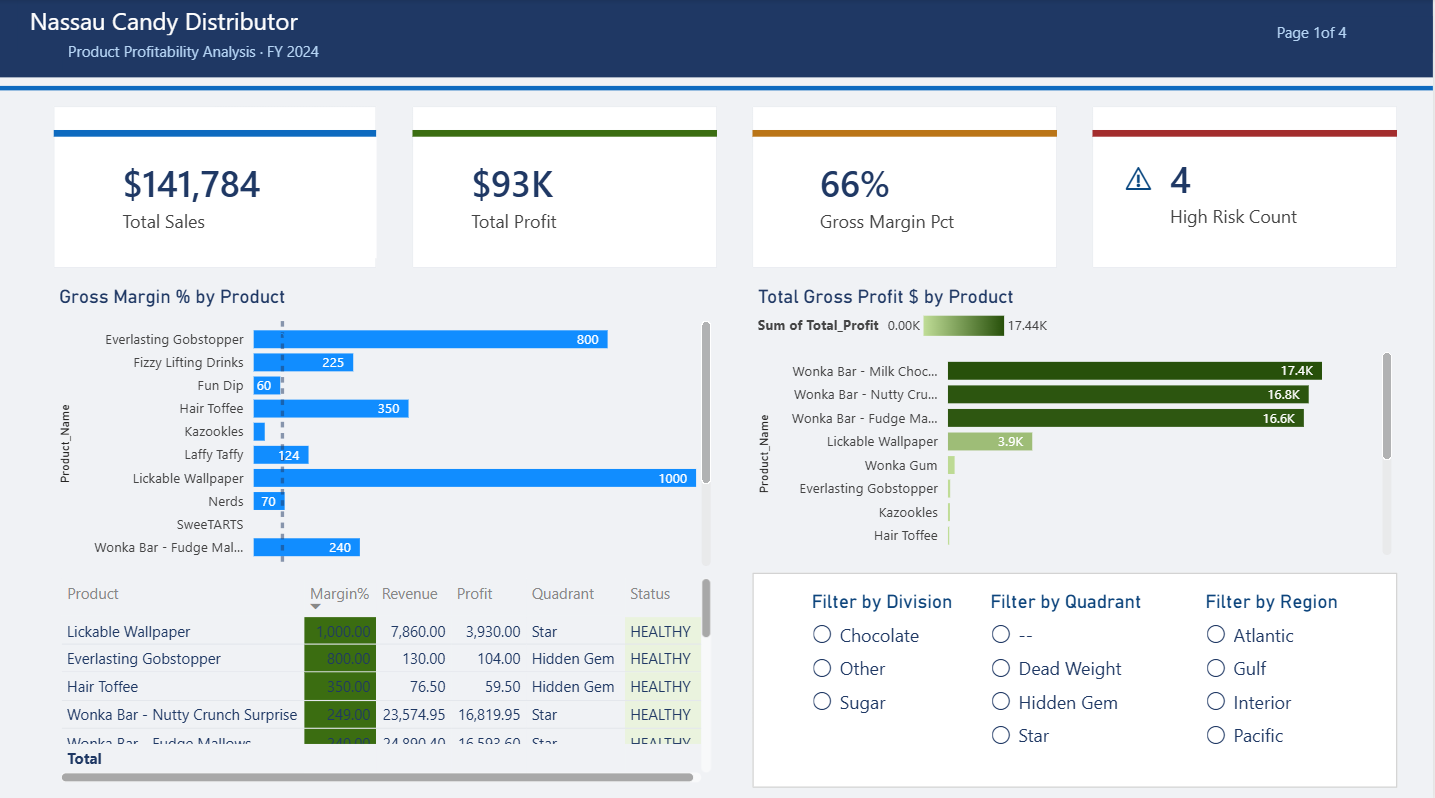

This screenshot's page, from the dashboard's own definition file:
{"tool":"powerbi","page":{"name":"Product Profitability Analysis","canvas":[1280,720],"ordinal":0},"visuals":[{"type":"shape","box":[0,0,1280,70],"z":0},{"type":"textbox","box":[16,0,400,48],"z":1000},{"type":"textbox","box":[56,32,400,32],"z":2000},{"type":"textbox","box":[1136,16,144,32],"z":3000},{"type":"shape","box":[368,96,272,144],"z":4000},{"type":"shape","box":[48,96,288,144],"z":5000},{"type":"shape","box":[672,96,272,144],"z":6000},{"type":"shape","box":[976,96,272,144],"z":7000},{"type":"cardVisual","fields":{"Data":["2.Total Sales"]},"box":[80,120,256,112],"z":8000},{"type":"cardVisual","fields":{"Data":["2.Total Profit"]},"box":[392,120,160,112],"z":9000},{"type":"cardVisual","fields":{"Data":["2.Gross Margin Pct"]},"box":[704,120,184,112],"z":10000},{"type":"cardVisual","fields":{"Data":["2.High Risk Count"]},"box":[1016,120,200,104],"z":11000},{"type":"shape","box":[48,48,288,144],"z":12000},{"type":"shape","box":[368,48,272,144],"z":13000},{"type":"shape","box":[672,48,272,144],"z":14000},{"type":"shape","box":[976,48,272,144],"z":15000},{"type":"textbox","box":[1000,136,40,56],"z":19000},{"type":"shape","box":[672,512,576,192],"z":22000},{"type":"tableEx","fields":{"Values":["Product_Analysis.Product_Name","Product_Analysis.Gross_Margin","Product_Analysis.Total_Sales","Product_Analysis.Total_Profit","Product_Analysis.Quadrant","Product_Analysis.Risk_Flag"]},"box":[48,512,592,192],"z":23000},{"type":"listSlicer","title":"Filter by Division","fields":{"Values":["2.Division"]},"box":[720,528,176,176],"z":24000},{"type":"clusteredBarChart","title":"Gross Margin % by Product","fields":{"Category":["Product_Analysis.Product_Name"],"Y":["Sum(Product_Analysis.Gross_Margin)"]},"box":[48,256,592,256],"z":24250},{"type":"clusteredBarChart","title":"Total Gross Profit $ by Product  ","fields":{"Category":["Product_Analysis.Product_Name"],"Y":["Sum(Product_Analysis.Total_Profit)"]},"box":[672,256,576,256],"z":24500},{"type":"listSlicer","title":"Filter by Quadrant","fields":{"Values":["Product_Analysis.Quadrant"]},"box":[880,528,192,176],"z":25000},{"type":"listSlicer","title":"Filter by Region","fields":{"Values":["2.Region"]},"box":[1072,528,176,176],"z":26000},{"type":"shape","box":[0,16,1280,128],"z":27000}]}

Visuals, with their boxes in screenshot pixels (x1, y1, x2, y2), scaled from the page's 1280x720 canvas onto the 1435x798 screenshot:
shape: 0/0/1434/78
textbox: 18/0/466/53
textbox: 63/35/511/71
textbox: 1274/18/1434/53
shape: 413/106/718/266
shape: 54/106/377/266
shape: 753/106/1058/266
shape: 1094/106/1399/266
cardVisual - 2.Total Sales: 90/133/377/257
cardVisual - 2.Total Profit: 439/133/619/257
cardVisual - 2.Gross Margin Pct: 789/133/996/257
cardVisual - 2.High Risk Count: 1139/133/1363/248
shape: 54/53/377/213
shape: 413/53/718/213
shape: 753/53/1058/213
shape: 1094/53/1399/213
textbox: 1121/151/1166/213
shape: 753/567/1399/780
tableEx - Product_Analysis.Product_Name x Product_Analysis.Gross_Margin: 54/567/718/780
"Filter by Division" listSlicer: 807/585/1004/780
"Gross Margin % by Product" clusteredBarChart: 54/284/718/567
"Total Gross Profit $ by Product  " clusteredBarChart: 753/284/1399/567
"Filter by Quadrant" listSlicer: 987/585/1202/780
"Filter by Region" listSlicer: 1202/585/1399/780
shape: 0/18/1434/160
